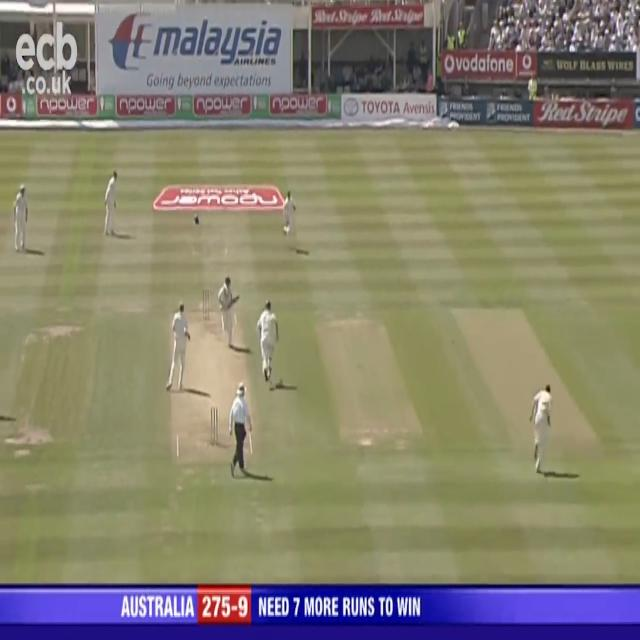ball: (451, 336, 457, 346)
